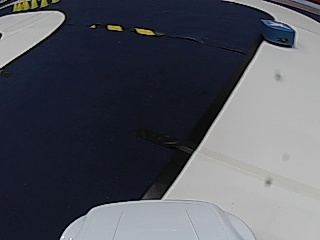prop: (262, 20, 295, 48)
